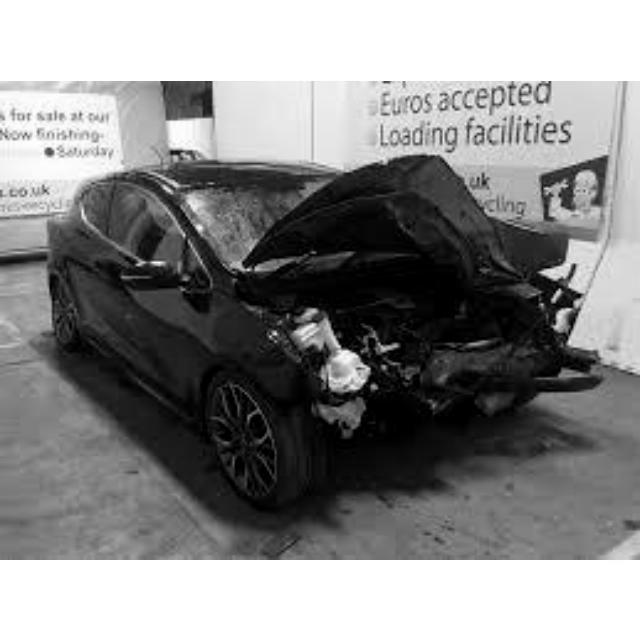Headlight-damage: (272, 313, 383, 401)
bonnet-dent: (250, 137, 487, 267)
